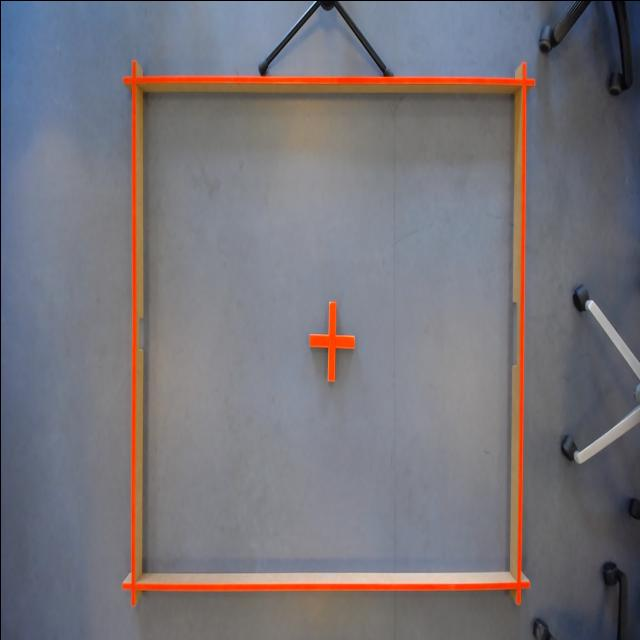cross: (307, 300, 357, 385)
